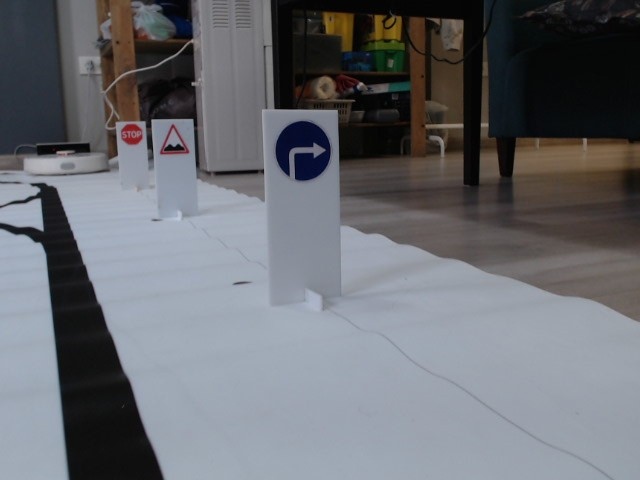Nerov: (159, 123, 191, 155)
Right: (274, 119, 332, 180)
Stop: (121, 123, 144, 146)
